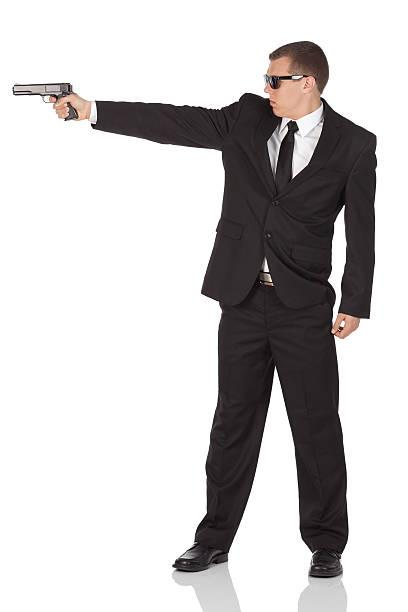weapon: (9, 74, 84, 124)
